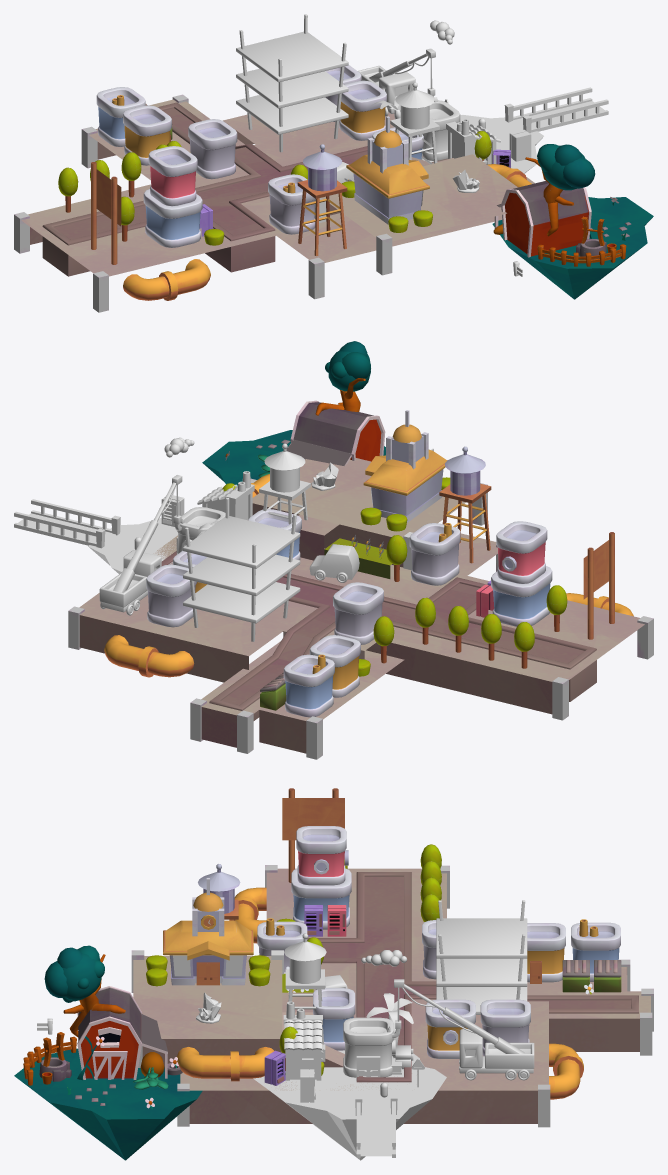
Rendered from islaCarlos.fbx.
The picture shows the model from 3 angles, top to bottom: view 1: azimuth 30°, elevation 25°; view 2: azimuth 150°, elevation 25°; view 3: azimuth 270°, elevation 25°; orthographic projection. The views are drawn at different scales.
Visible parts, largest first — view 1: Cube.013, Cube.082, Cube.019, Cube.023, MainIsland.004, Cube.031, Cylinder.003, Cube.021, Cube.039, Cube.043, Cube.005, Cube.069 (+28 smaller); view 2: Cube.013, Cube.082, Cube.019, Cube.044, Cube.023, Cube.031, Cylinder.003, Cube.038, Cube.048, Cube.021, Cube.005, Cube.039 (+31 smaller); view 3: Cube.013, Cube.019, MainIsland.004, Cube.082, MainIsland.001, Cube.031, Cube.044, Cube.023, Cube.021, Sphere, Cube, Cylinder.031 (+34 smaller).
Part boxes in pixels (box(x1,y1,x2,y2)): Cube.013: box(21, 112, 534, 276); Cube.082: box(236, 14, 348, 152); Cube.019: box(322, 154, 517, 241); Cube.023: box(42, 102, 423, 276); MainIsland.004: box(492, 197, 653, 299); Cube.031: box(494, 181, 591, 257); Cylinder.003: box(297, 144, 347, 256); Cube.021: box(148, 146, 197, 206); Cube.039: box(143, 189, 202, 247); Cube.043: box(188, 119, 237, 179); Cube.005: box(504, 87, 608, 133); Cube.069: box(339, 80, 386, 140); Cube.013: box(79, 533, 644, 714); Cube.082: box(183, 497, 300, 641); Cube.019: box(252, 458, 465, 567); Cube.044: box(201, 641, 404, 753); Cube.023: box(161, 551, 596, 720); Cube.031: box(286, 400, 385, 465); Cylinder.003: box(439, 446, 491, 563); Cube.038: box(409, 523, 460, 585); Cube.048: box(283, 654, 334, 717); Cube.021: box(496, 521, 547, 583); Cube.005: box(14, 499, 120, 548); Cube.039: box(491, 566, 552, 626); Cube.013: box(180, 868, 548, 1123); Cube.019: box(133, 956, 282, 1066); MainIsland.004: box(14, 1048, 202, 1160); Cube.082: box(436, 900, 527, 1014); MainIsland.001: box(253, 1050, 446, 1160); Cube.031: box(77, 986, 167, 1079); Cube.044: box(527, 967, 650, 1051); Cube.023: box(307, 872, 638, 1082); Cube.021: box(296, 826, 346, 885); Sphere: box(44, 945, 104, 1002); Cube: box(343, 1017, 393, 1077); Cylinder.031: box(282, 788, 344, 882).
Bounding box in the file's own units: 8740 × 2886 × 8161.
